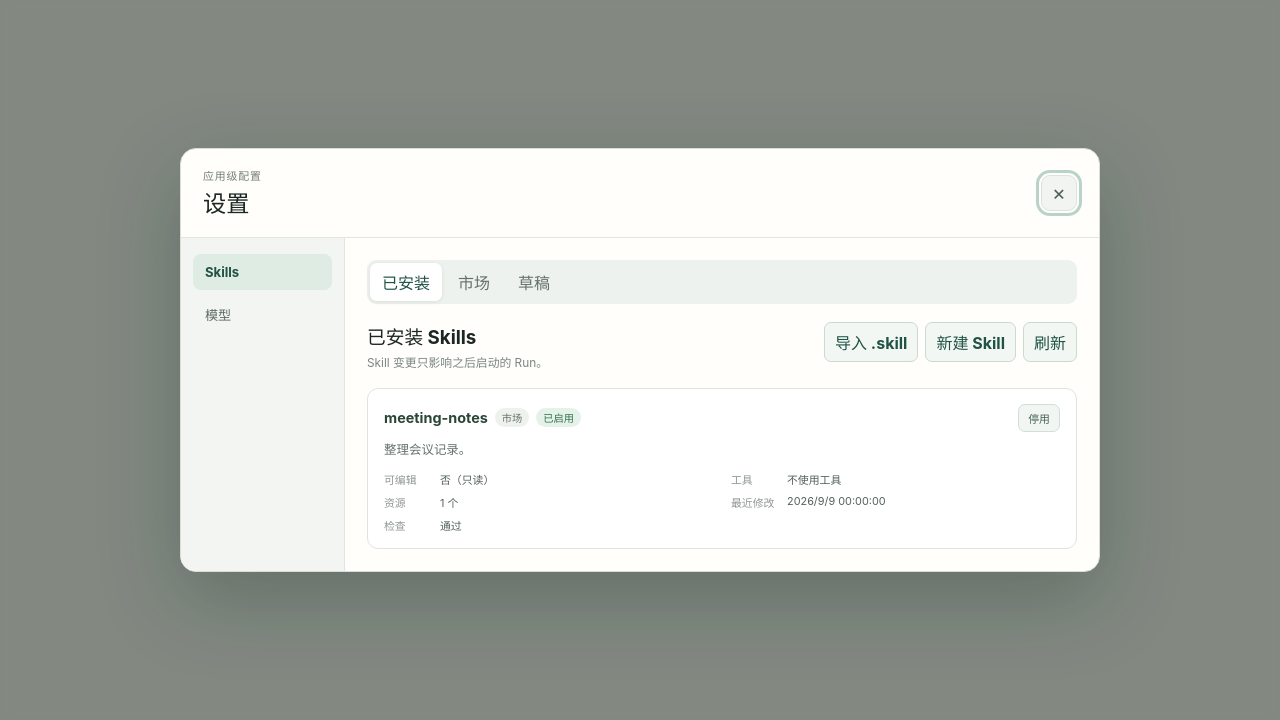
it: SettingsDialog › 市场 Skill 保持只读并可复制为新用户 Skill
Click the button "meeting-notes": [436, 418] box [384,409,488,426]
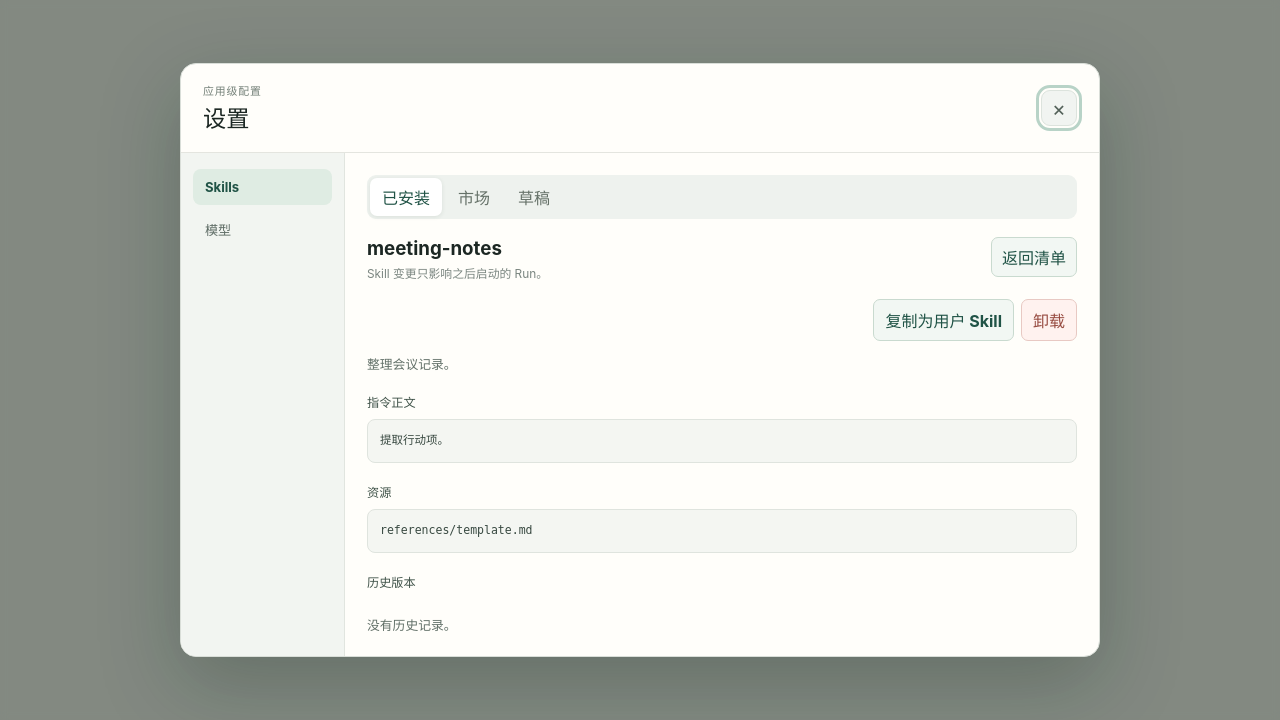
Click the button "复制为用户 Skill": [944, 320] box [873,299,1014,341]
(page scrolled)
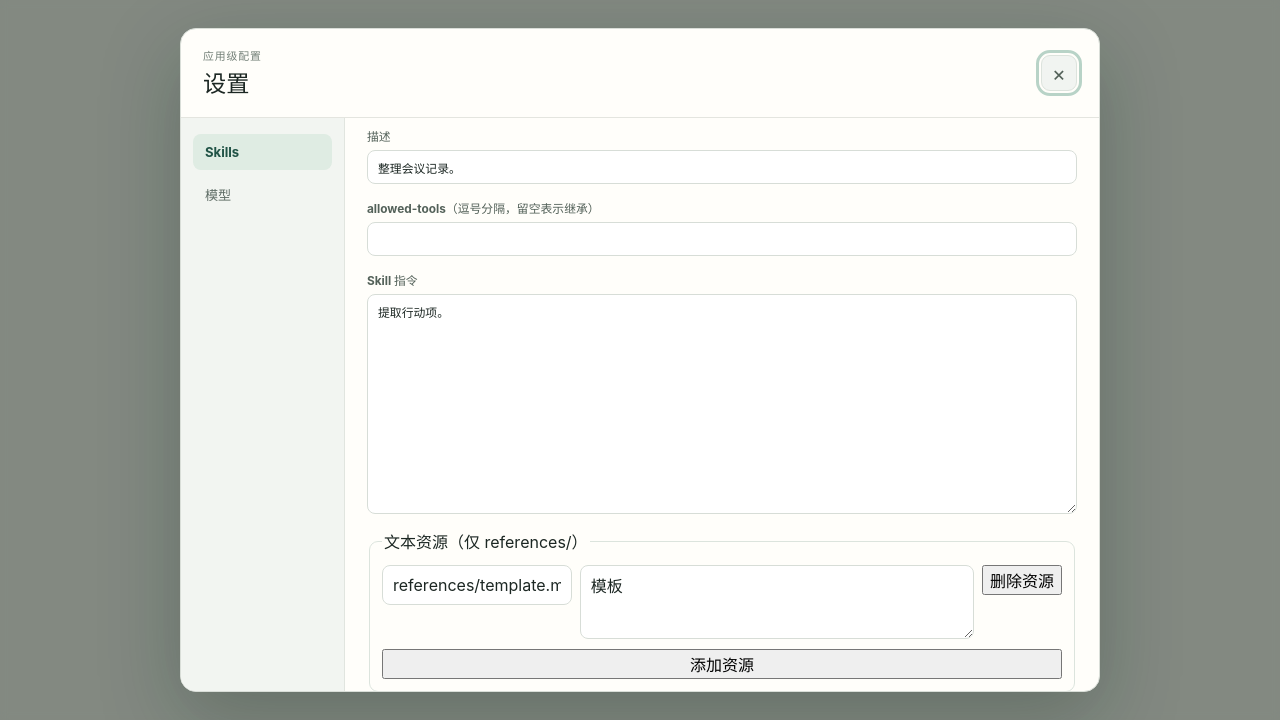
Check: the text box labelled "Skill 指令" holds "提取行动项。", box [367,294,1077,514]
